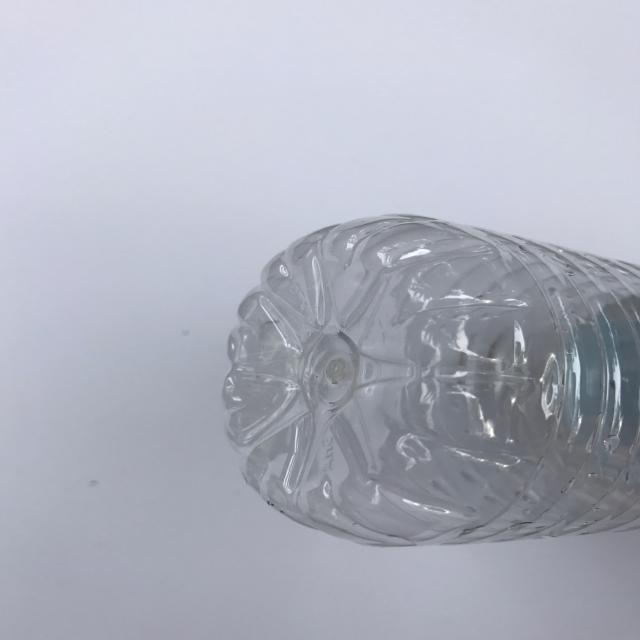plastic: (222, 212, 640, 548)
